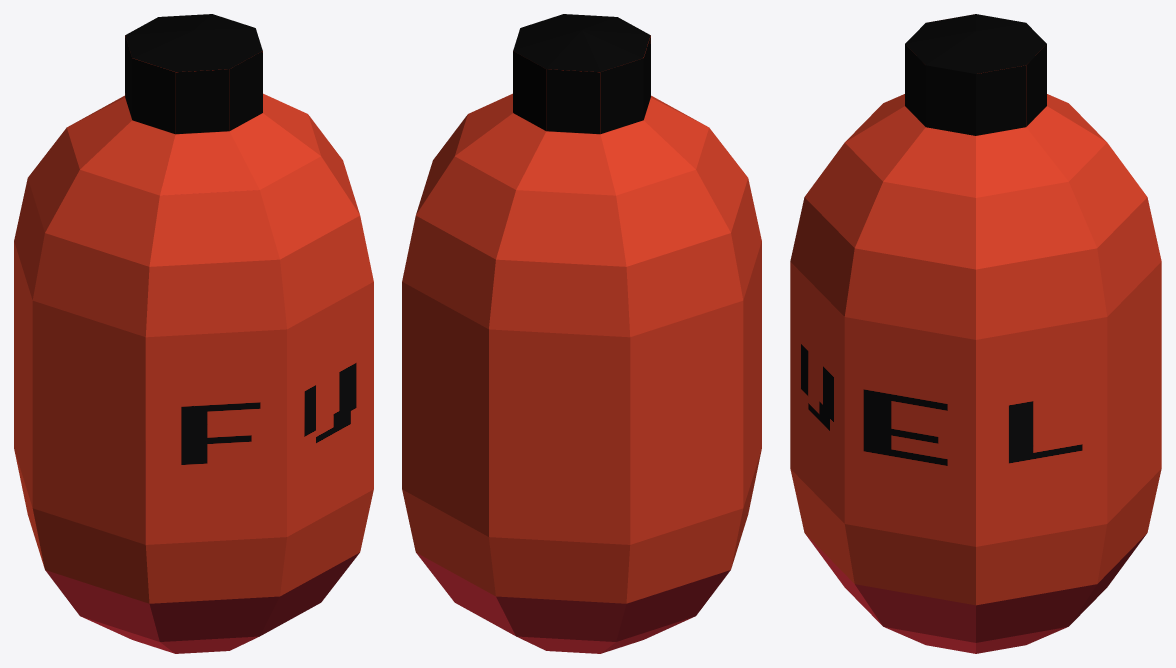
Rendered from Fuel.fbx.
3 views of the same model, side by side, from view 1: azimuth 30°, elevation 25°; view 2: azimuth 150°, elevation 25°; view 3: azimuth 270°, elevation 25° (orthographic).
Visible parts, largest first — view 1: Sphere; view 2: Sphere; view 3: Sphere.
Boxes of the visible parts, left/top/right/bottom form: Sphere: left=14, top=14, right=373, bottom=653; Sphere: left=402, top=14, right=761, bottom=653; Sphere: left=790, top=14, right=1161, bottom=653.
Size of the model in its own units: 200 by 360 by 200.
Materials: 1 (1 with a texture image).
